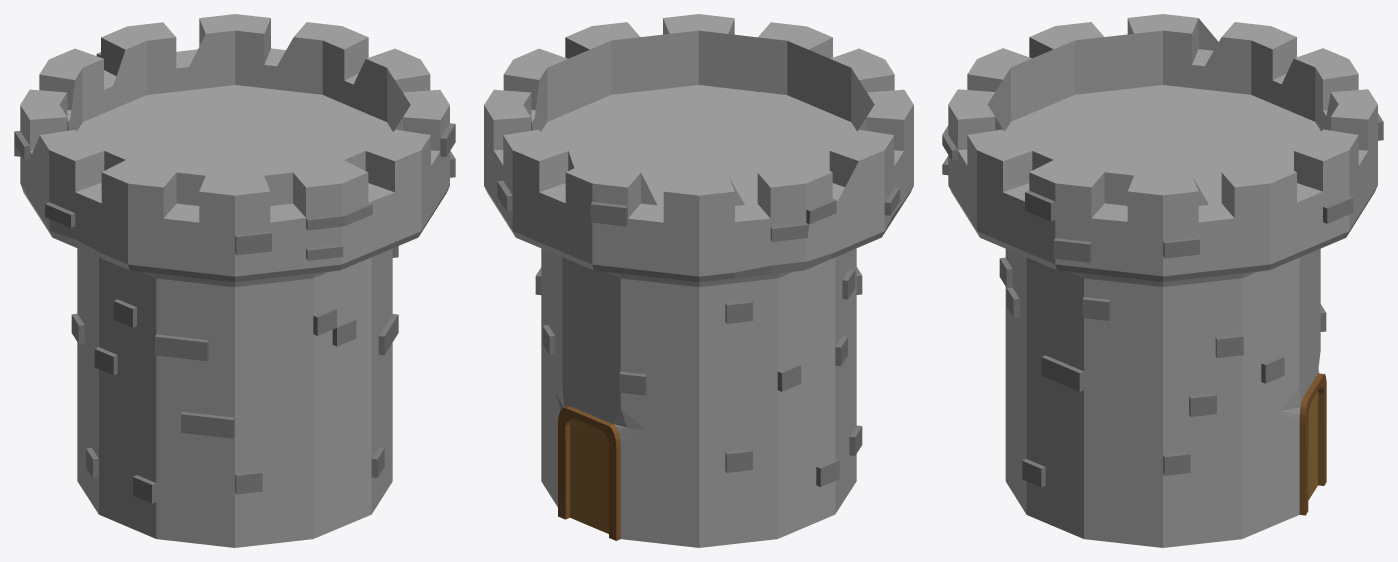
Rendered from Castle.fbx.
3 views of the same model, side by side, from view 1: azimuth 30°, elevation 25°; view 2: azimuth 150°, elevation 25°; view 3: azimuth 270°, elevation 25° (orthographic).
Visible parts, largest first — view 1: Cube; view 2: Cube; view 3: Cube.
Part boxes in pixels (x1,y1,x2,y2): Cube: [14, 14, 455, 547]; Cube: [484, 14, 913, 547]; Cube: [942, 14, 1383, 547].
Size of the model in its own units: 7.04 by 6.64 by 7.05.
